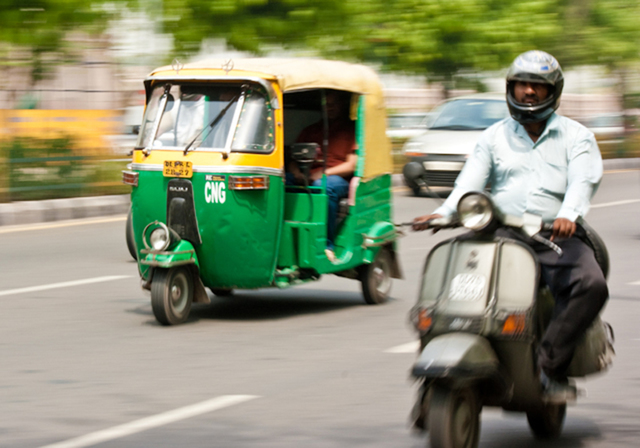helmet: (501, 55, 564, 117)
